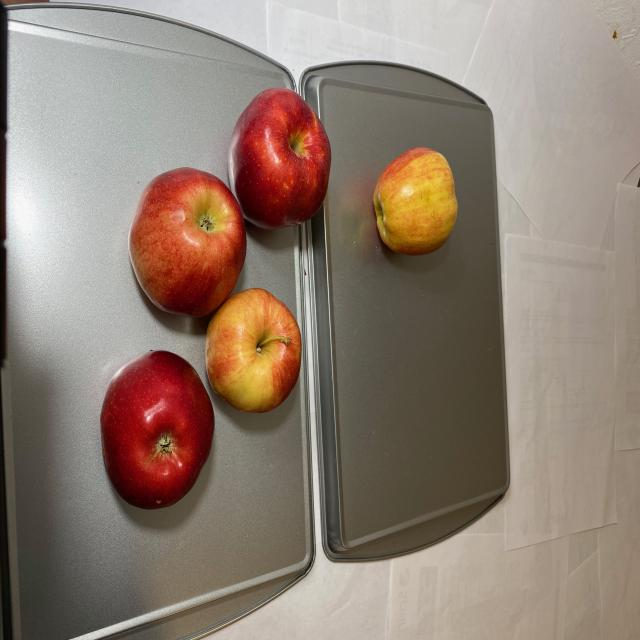apple: (99, 90, 333, 516), (369, 144, 457, 259)
